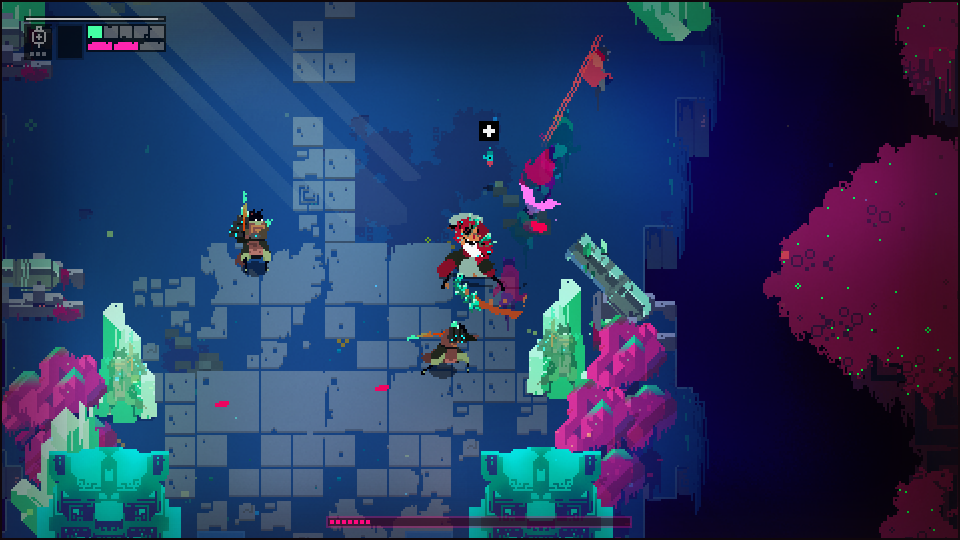hanged_man: (438, 212, 508, 316)
player: (577, 41, 614, 97)
